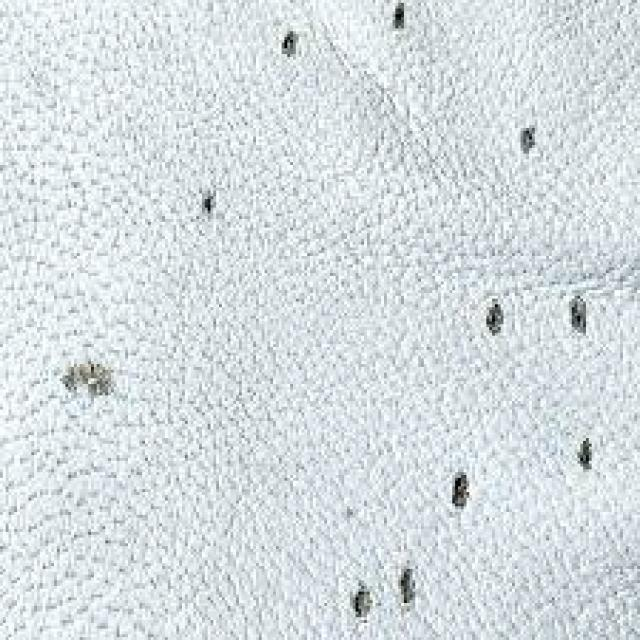Healed Injury: (41, 322, 135, 439)
Hole: (448, 242, 619, 485), (320, 428, 512, 628), (149, 164, 258, 254)
